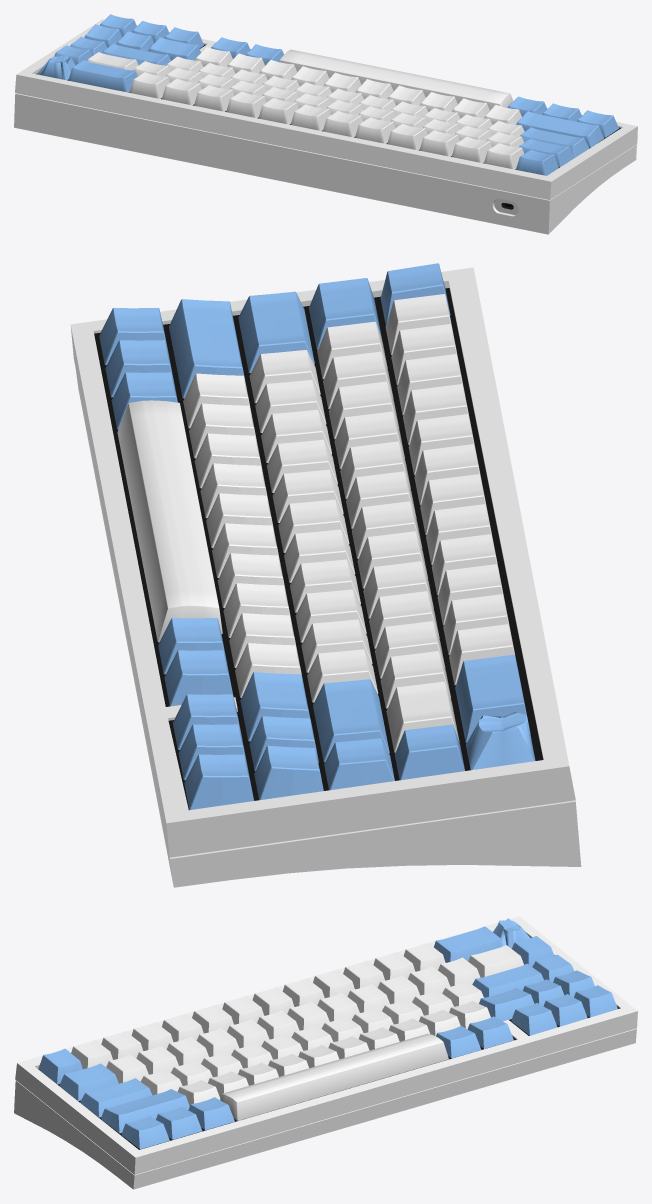
Rendered from 3d_keyboard.glb.
The picture shows the model from 3 angles, top to bottom: view 1: azimuth 30°, elevation 25°; view 2: azimuth 150°, elevation 25°; view 3: azimuth 270°, elevation 25°; orthographic projection. The views are drawn at different scales.
Visible parts, largest first — view 1: Cube.001, Cima=PRONTO, fILA1.001, fILA1.004, fILA1, fILA1.005, fILA1.006, fILA1.003, fILA1.002; view 2: Cima=PRONTO, fILA1.001, fILA1, fILA1.004, fILA1.005, fILA1.006, Cube.001, Case Teclas, fILA1.003, fILA1.002; view 3: Cima=PRONTO, fILA1, fILA1.001, fILA1.005, Cube.001, fILA1.004, fILA1.006, fILA1.003, fILA1.002, Case Teclas.
Part boxes in pixels (bbox=[...]): Cube.001: bbox=[14, 93, 636, 234]; Cima=PRONTO: bbox=[15, 19, 637, 199]; fILA1.001: bbox=[37, 55, 558, 175]; fILA1.004: bbox=[84, 24, 603, 147]; fILA1: bbox=[100, 14, 618, 137]; fILA1.005: bbox=[87, 52, 523, 147]; fILA1.006: bbox=[166, 56, 524, 136]; fILA1.003: bbox=[70, 37, 589, 157]; fILA1.002: bbox=[54, 45, 573, 167]; Cima=PRONTO: bbox=[70, 267, 575, 857]; fILA1.001: bbox=[380, 263, 535, 770]; fILA1: bbox=[99, 307, 254, 809]; fILA1.004: bbox=[169, 299, 323, 800]; fILA1.005: bbox=[317, 321, 459, 752]; fILA1.006: bbox=[249, 350, 378, 702]; Cube.001: bbox=[76, 371, 581, 887]; Case Teclas: bbox=[94, 288, 543, 810]; fILA1.003: bbox=[238, 291, 394, 790]; fILA1.002: bbox=[309, 278, 464, 780]; Cima=PRONTO: bbox=[15, 916, 637, 1174]; fILA1: bbox=[121, 985, 617, 1149]; fILA1.001: bbox=[38, 918, 529, 1084]; fILA1.005: bbox=[106, 945, 523, 1083]; Cube.001: bbox=[14, 1028, 636, 1189]; fILA1.004: bbox=[101, 970, 594, 1133]; fILA1.006: bbox=[140, 981, 483, 1095]; fILA1.003: bbox=[80, 954, 574, 1117]; fILA1.002: bbox=[59, 936, 554, 1101]; Case Teclas: bbox=[38, 1006, 619, 1149].
Size of the model in its own units: 128 by 18.2 by 152.
